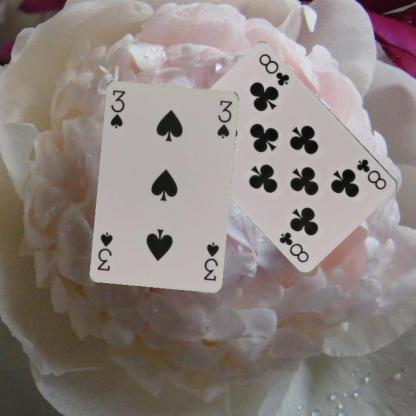3s: (201, 239, 220, 282), (107, 88, 126, 130)
8c: (354, 156, 388, 191)
